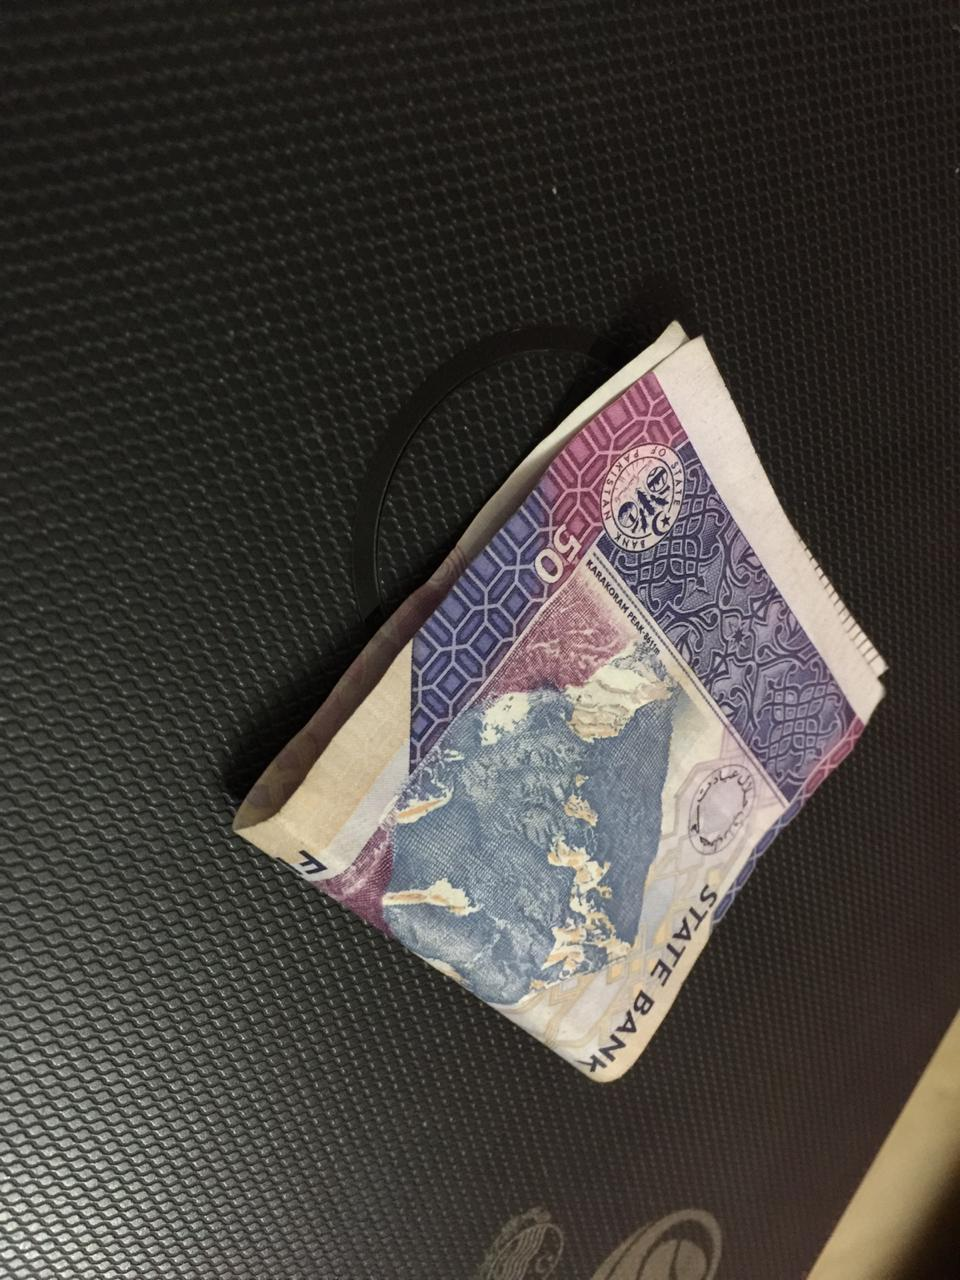50 rupee: (194, 267, 902, 1125)
